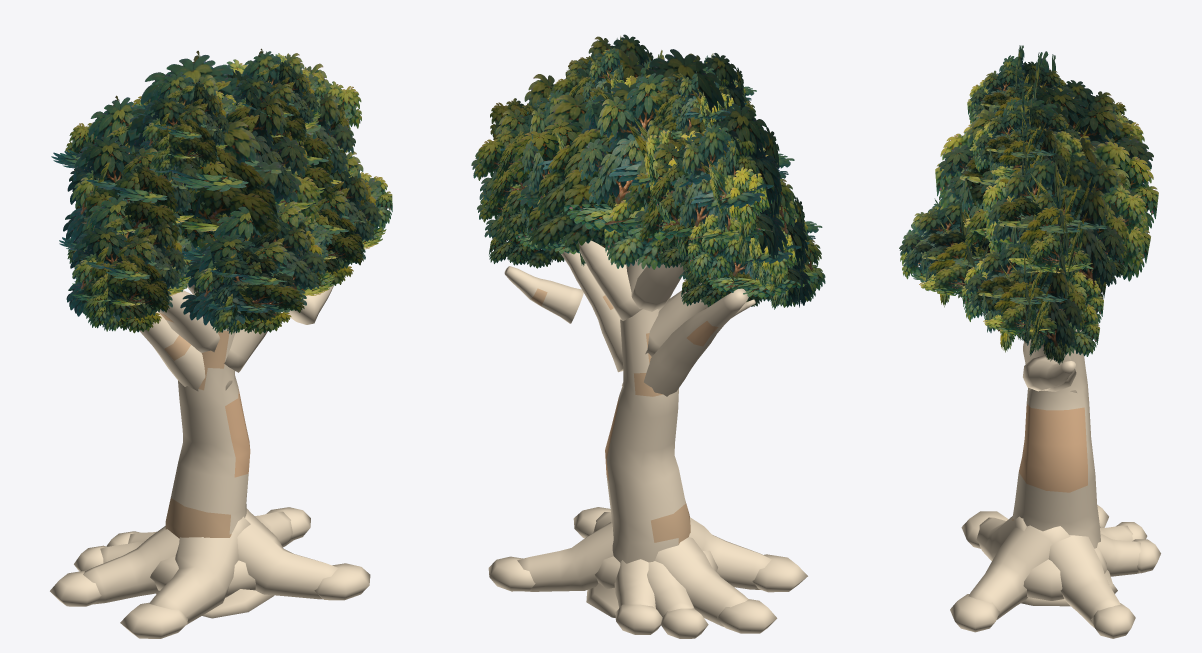
File: TREE_EUCALYPTUS_001_v012_LOD_GAMEPLAY.glb
The picture shows the model from 3 angles, left to right: view 1: azimuth 30°, elevation 25°; view 2: azimuth 150°, elevation 25°; view 3: azimuth 270°, elevation 25°; orthographic projection. The views are drawn at different scales.
Parts seen in each view (by area): view 1: TREE_EUCALYPTUS_001_GAMEPLAY_AUTHORED_FOLIAGE_ISLANDS, TREE_EUCALYPTUS_001_GAMEPLAY_MAIN_TRUNK, TREE_EUCALYPTUS_001_GAMEPLAY_ROOT_FRONT_LEFT, TREE_EUCALYPTUS_001_GAMEPLAY_ROOT_FRONT_RIGHT, TREE_EUCALYPTUS_001_GAMEPLAY_ROOT_LONG_LEFT, TREE_EUCALYPTUS_001_GAMEPLAY_LOWER_LEFT_SWEEP, TREE_EUCALYPTUS_001_GAMEPLAY_ROOT_TOE_FRONT_LEFT, TREE_EUCALYPTUS_001_GAMEPLAY_MID_LEFT_ARCH, TREE_EUCALYPTUS_001_GAMEPLAY_ROOT_TOE_FRONT_RIGHT, TREE_EUCALYPTUS_001_GAMEPLAY_ROOT_TOE_LONG_LEFT, TREE_EUCALYPTUS_001_GAMEPLAY_BROAD_PLANTED_ROOT_MOUND, TREE_EUCALYPTUS_001_GAMEPLAY_SCULPTED_ROOT_COLLAR (+4 smaller); view 2: TREE_EUCALYPTUS_001_GAMEPLAY_AUTHORED_FOLIAGE_ISLANDS, TREE_EUCALYPTUS_001_GAMEPLAY_MAIN_TRUNK, TREE_EUCALYPTUS_001_GAMEPLAY_LOWER_LEFT_SWEEP, TREE_EUCALYPTUS_001_GAMEPLAY_ROOT_RIGHT_SIDE, TREE_EUCALYPTUS_001_GAMEPLAY_ROOT_LONG_LEFT, TREE_EUCALYPTUS_001_GAMEPLAY_ROOT_FRONT_LEFT, TREE_EUCALYPTUS_001_GAMEPLAY_UPPER_RIGHT_ARCH, TREE_EUCALYPTUS_001_GAMEPLAY_MID_RIGHT_SWEEP, TREE_EUCALYPTUS_001_GAMEPLAY_LOWER_RIGHT_REACH, TREE_EUCALYPTUS_001_GAMEPLAY_UPPER_LEFT_FORK, TREE_EUCALYPTUS_001_GAMEPLAY_MID_LEFT_ARCH, TREE_EUCALYPTUS_001_GAMEPLAY_ROOT_REAR_SHORT (+9 smaller); view 3: TREE_EUCALYPTUS_001_GAMEPLAY_AUTHORED_FOLIAGE_ISLANDS, TREE_EUCALYPTUS_001_GAMEPLAY_MAIN_TRUNK, TREE_EUCALYPTUS_001_GAMEPLAY_ROOT_FRONT_RIGHT, TREE_EUCALYPTUS_001_GAMEPLAY_ROOT_RIGHT_SIDE, TREE_EUCALYPTUS_001_GAMEPLAY_BROAD_PLANTED_ROOT_MOUND, TREE_EUCALYPTUS_001_GAMEPLAY_LOWER_RIGHT_REACH, TREE_EUCALYPTUS_001_GAMEPLAY_ROOT_REAR_SHORT, TREE_EUCALYPTUS_001_GAMEPLAY_ROOT_TOE_FRONT_RIGHT, TREE_EUCALYPTUS_001_GAMEPLAY_ROOT_FRONT_LEFT, TREE_EUCALYPTUS_001_GAMEPLAY_ROOT_TOE_RIGHT_SIDE, TREE_EUCALYPTUS_001_GAMEPLAY_ROOT_TOE_FRONT_LEFT, TREE_EUCALYPTUS_001_GAMEPLAY_ROOT_TOE_REAR_SHORT (+1 smaller).
Boxes of the visible parts, <box> form: TREE_EUCALYPTUS_001_GAMEPLAY_AUTHORED_FOLIAGE_ISLANDS: <box>51,48,392,334</box>; TREE_EUCALYPTUS_001_GAMEPLAY_MAIN_TRUNK: <box>165,327,250,538</box>; TREE_EUCALYPTUS_001_GAMEPLAY_ROOT_FRONT_LEFT: <box>149,516,250,624</box>; TREE_EUCALYPTUS_001_GAMEPLAY_ROOT_FRONT_RIGHT: <box>237,508,338,599</box>; TREE_EUCALYPTUS_001_GAMEPLAY_ROOT_LONG_LEFT: <box>83,526,179,604</box>; TREE_EUCALYPTUS_001_GAMEPLAY_LOWER_LEFT_SWEEP: <box>139,311,232,391</box>; TREE_EUCALYPTUS_001_GAMEPLAY_ROOT_TOE_FRONT_LEFT: <box>120,602,187,638</box>; TREE_EUCALYPTUS_001_GAMEPLAY_MID_LEFT_ARCH: <box>157,290,219,352</box>; TREE_EUCALYPTUS_001_GAMEPLAY_ROOT_TOE_FRONT_RIGHT: <box>314,563,370,600</box>; TREE_EUCALYPTUS_001_GAMEPLAY_ROOT_TOE_LONG_LEFT: <box>50,570,101,606</box>; TREE_EUCALYPTUS_001_GAMEPLAY_BROAD_PLANTED_ROOT_MOUND: <box>150,556,255,597</box>; TREE_EUCALYPTUS_001_GAMEPLAY_SCULPTED_ROOT_COLLAR: <box>156,589,274,618</box>; TREE_EUCALYPTUS_001_GAMEPLAY_AUTHORED_FOLIAGE_ISLANDS: <box>471,34,825,309</box>; TREE_EUCALYPTUS_001_GAMEPLAY_MAIN_TRUNK: <box>605,259,690,563</box>; TREE_EUCALYPTUS_001_GAMEPLAY_LOWER_LEFT_SWEEP: <box>622,288,748,396</box>; TREE_EUCALYPTUS_001_GAMEPLAY_ROOT_RIGHT_SIDE: <box>517,522,613,591</box>; TREE_EUCALYPTUS_001_GAMEPLAY_ROOT_LONG_LEFT: <box>654,537,748,626</box>; TREE_EUCALYPTUS_001_GAMEPLAY_ROOT_FRONT_LEFT: <box>689,517,771,589</box>; TREE_EUCALYPTUS_001_GAMEPLAY_UPPER_RIGHT_ARCH: <box>578,240,643,320</box>; TREE_EUCALYPTUS_001_GAMEPLAY_MID_RIGHT_SWEEP: <box>558,250,623,372</box>; TREE_EUCALYPTUS_001_GAMEPLAY_LOWER_RIGHT_REACH: <box>504,266,583,323</box>; TREE_EUCALYPTUS_001_GAMEPLAY_UPPER_LEFT_FORK: <box>632,247,686,311</box>; TREE_EUCALYPTUS_001_GAMEPLAY_MID_LEFT_ARCH: <box>645,270,749,356</box>; TREE_EUCALYPTUS_001_GAMEPLAY_ROOT_REAR_SHORT: <box>614,559,655,608</box>; TREE_EUCALYPTUS_001_GAMEPLAY_AUTHORED_FOLIAGE_ISLANDS: <box>899,45,1158,364</box>; TREE_EUCALYPTUS_001_GAMEPLAY_MAIN_TRUNK: <box>1012,329,1100,548</box>; TREE_EUCALYPTUS_001_GAMEPLAY_ROOT_FRONT_RIGHT: <box>968,525,1070,619</box>; TREE_EUCALYPTUS_001_GAMEPLAY_ROOT_RIGHT_SIDE: <box>1048,535,1120,627</box>; TREE_EUCALYPTUS_001_GAMEPLAY_BROAD_PLANTED_ROOT_MOUND: <box>1023,548,1106,600</box>; TREE_EUCALYPTUS_001_GAMEPLAY_LOWER_RIGHT_REACH: <box>1023,355,1075,391</box>; TREE_EUCALYPTUS_001_GAMEPLAY_ROOT_REAR_SHORT: <box>1097,533,1141,576</box>; TREE_EUCALYPTUS_001_GAMEPLAY_ROOT_TOE_FRONT_RIGHT: <box>950,594,999,632</box>; TREE_EUCALYPTUS_001_GAMEPLAY_ROOT_FRONT_LEFT: <box>976,516,1026,560</box>; TREE_EUCALYPTUS_001_GAMEPLAY_ROOT_TOE_RIGHT_SIDE: <box>1091,603,1135,638</box>; TREE_EUCALYPTUS_001_GAMEPLAY_ROOT_TOE_FRONT_LEFT: <box>961,511,1008,548</box>; TREE_EUCALYPTUS_001_GAMEPLAY_ROOT_TOE_REAR_SHORT: <box>1132,539,1160,573</box>.
Size of the model in its own units: 4.65 by 6.9 by 3.68.
Materials: 5 (1 with a texture image).
